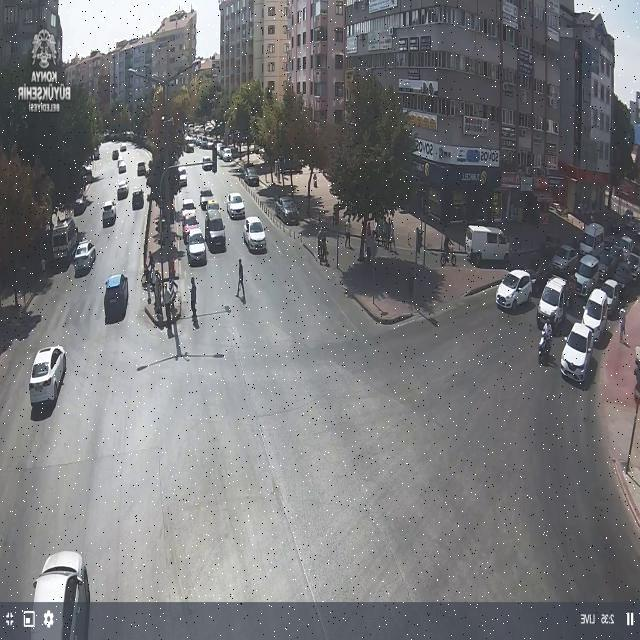Car: (29, 551, 85, 640), (29, 344, 68, 408), (560, 323, 599, 385), (536, 277, 572, 332), (495, 270, 533, 307), (570, 256, 601, 298), (583, 291, 609, 339), (105, 273, 128, 312), (244, 216, 266, 253), (74, 241, 98, 274), (187, 228, 207, 267), (550, 246, 580, 272), (274, 198, 301, 226), (600, 279, 622, 308), (225, 192, 247, 219), (181, 215, 199, 240), (241, 166, 260, 188), (181, 196, 197, 220), (102, 200, 116, 226), (198, 186, 216, 206), (116, 179, 129, 198), (133, 187, 143, 210), (177, 166, 188, 184), (136, 161, 146, 176), (202, 158, 213, 171), (222, 148, 232, 161), (117, 162, 127, 172)
Cycle: (139, 264, 162, 289), (537, 330, 553, 364), (439, 244, 458, 266), (384, 280, 390, 280)
Van: (466, 224, 511, 266), (52, 219, 79, 262), (204, 210, 227, 250), (580, 222, 602, 256)
